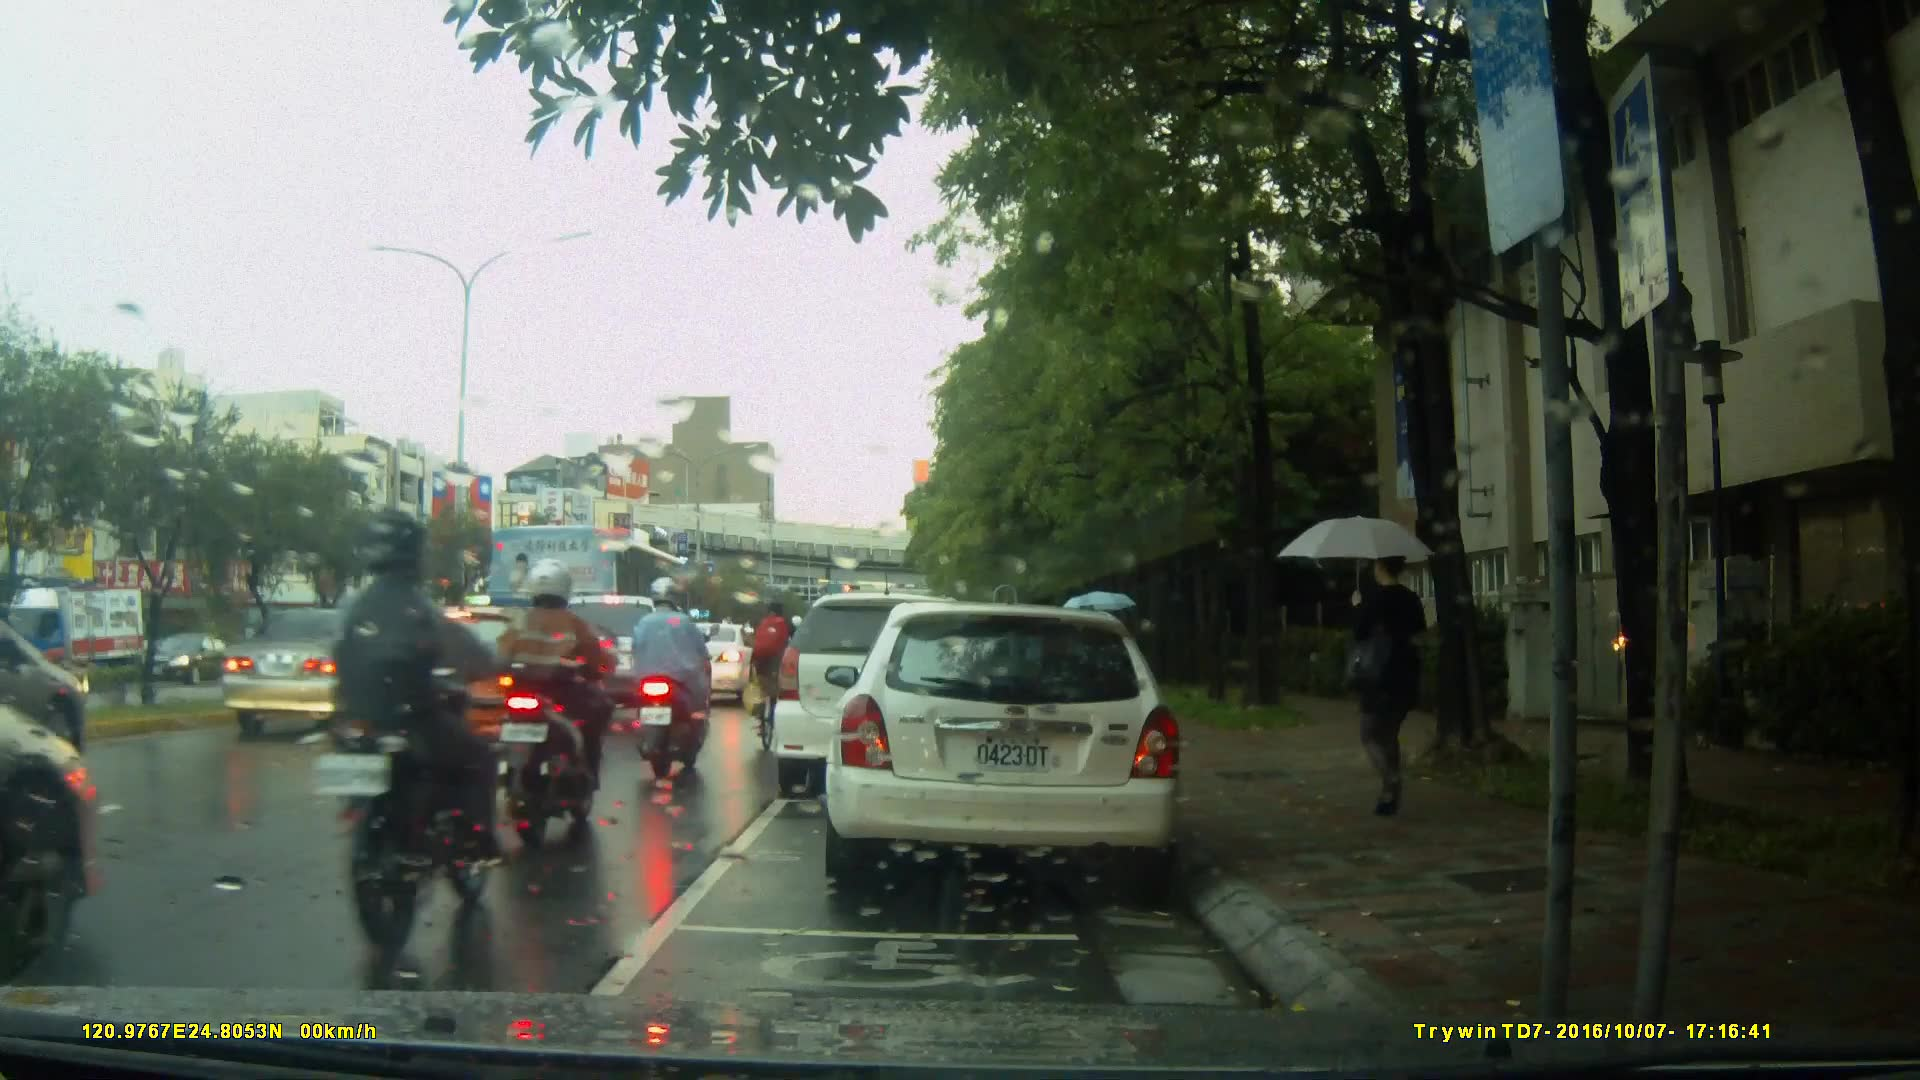pedestrian: (1310, 541, 1436, 823)
rider: (321, 510, 503, 939), (483, 556, 623, 832), (633, 576, 721, 779), (753, 598, 808, 747)
vehicle: (835, 594, 1194, 898), (776, 590, 1026, 784), (352, 604, 609, 775), (490, 523, 707, 669), (218, 608, 442, 739), (1, 586, 157, 697)
